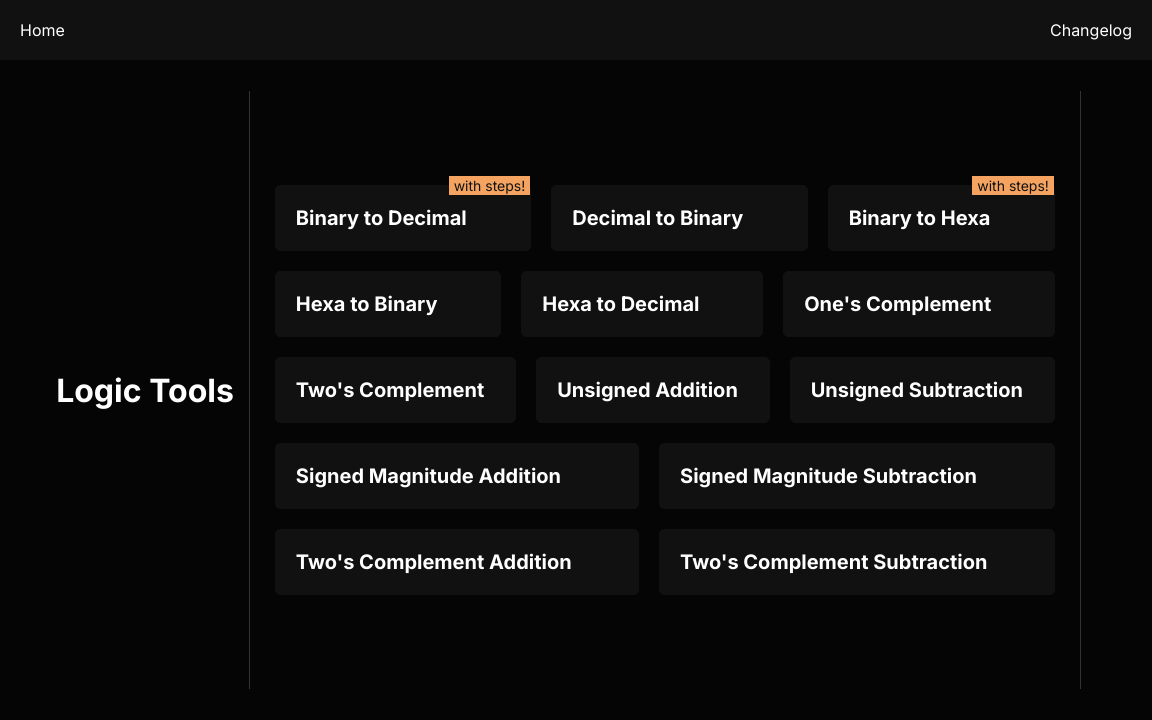
Convertions › BinaryToDecimal › should reset convertion
Click the link "Binary to Decimal" at (403, 218), box x1=275 y1=185 x2=531 y2=251
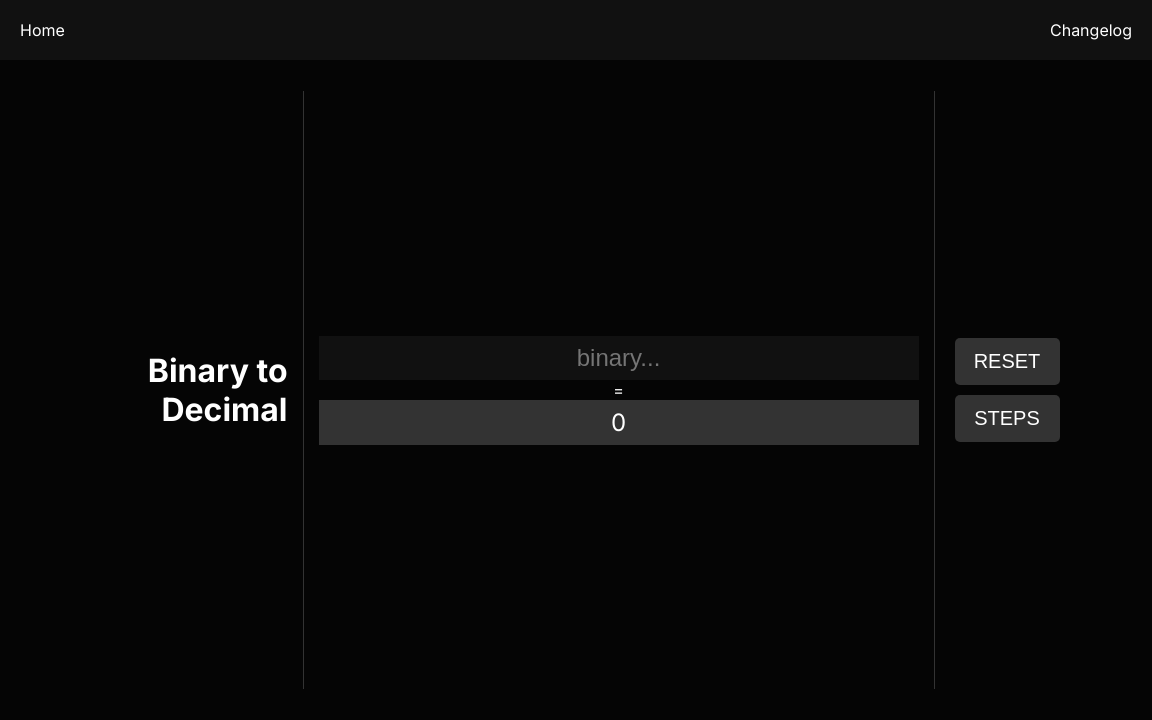
Type "1010" into the field with id "input1" at (619, 358), box x1=319 y1=336 x2=919 y2=380
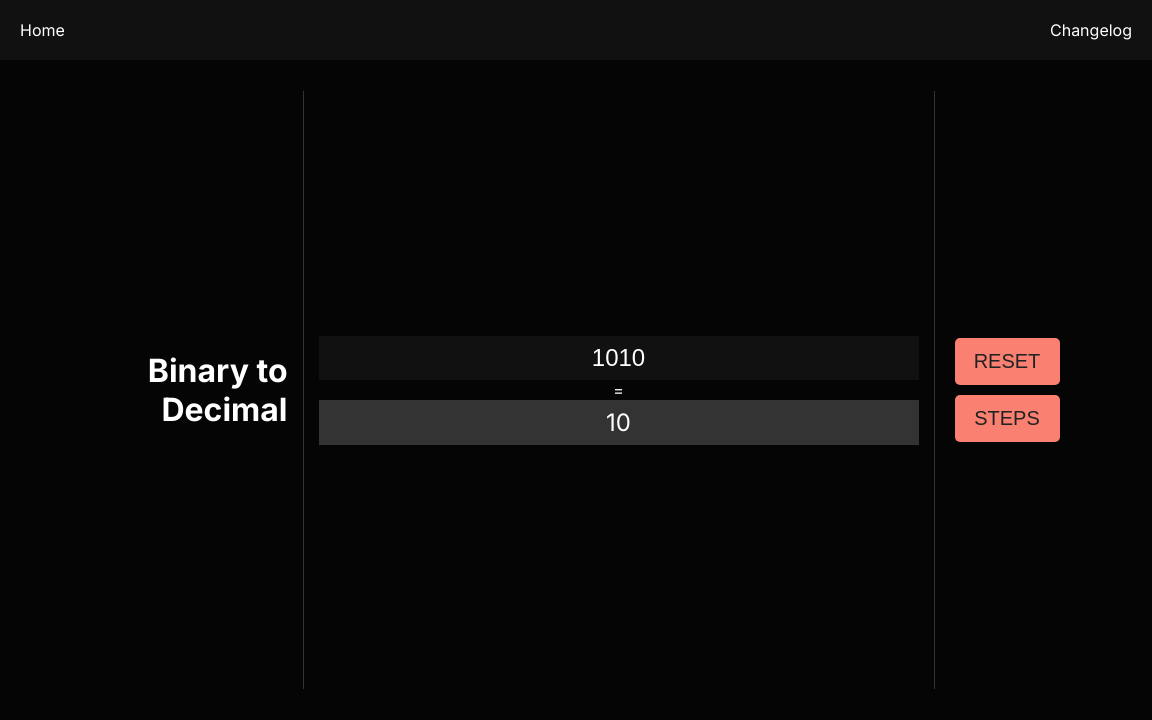
Click the button "Reset" at (1008, 362), box x1=955 y1=338 x2=1060 y2=385
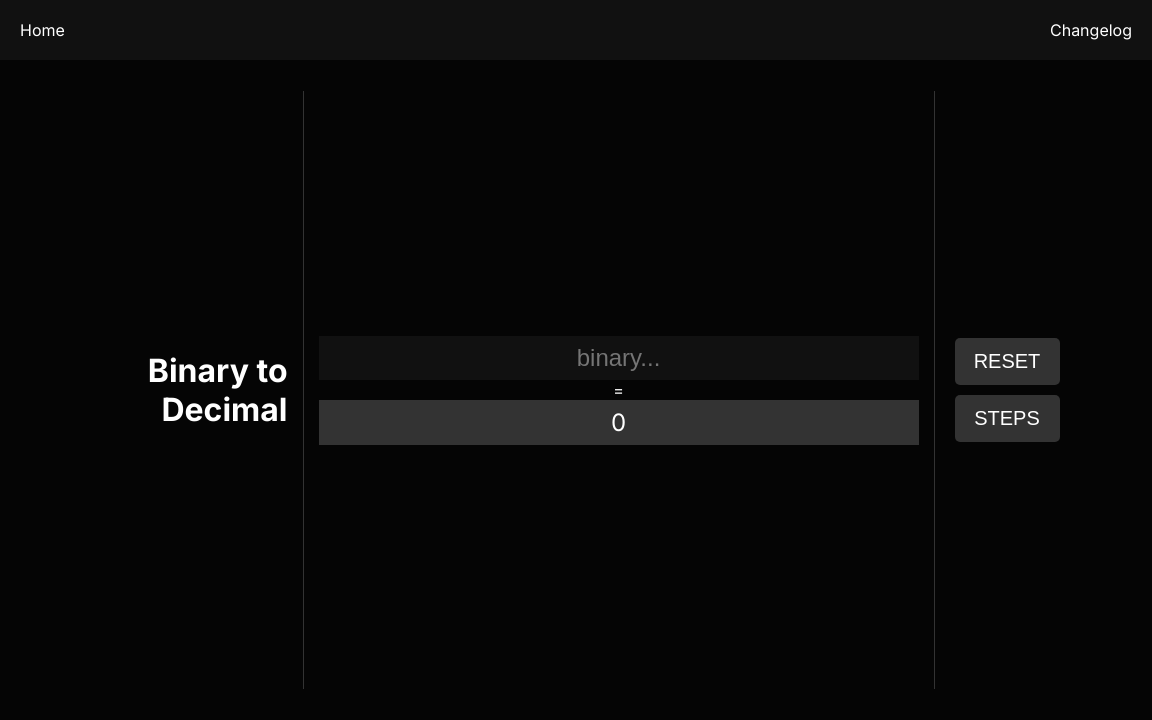
expect the text with id "output" reads "0": met, box x1=611 y1=408 x2=626 y2=437
